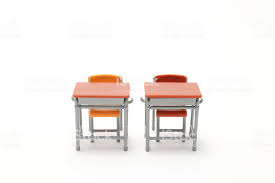desk: (71, 80, 131, 104), (143, 80, 203, 104)
